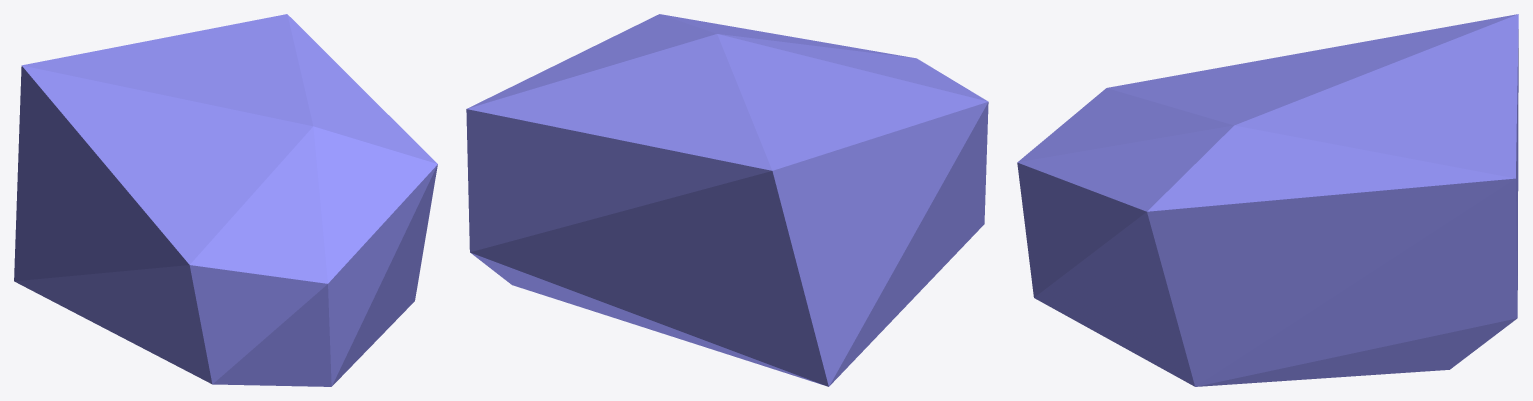
File: Rock_01_Collider_01.FBX
3 renders of one model, left to right at view 1: azimuth 30°, elevation 25°; view 2: azimuth 150°, elevation 25°; view 3: azimuth 270°, elevation 25°, orthographic. The views are drawn at different scales.
Parts seen in each view (by area): view 1: COLLIDER1; view 2: COLLIDER1; view 3: COLLIDER1.
Boxes of the visible parts, x1=… form: COLLIDER1: x1=14, y1=14, x2=437, y2=386; COLLIDER1: x1=466, y1=14, x2=988, y2=386; COLLIDER1: x1=1017, y1=14, x2=1518, y2=386.
Bounding box in the file's own units: 23.08 × 16.71 × 29.42.
